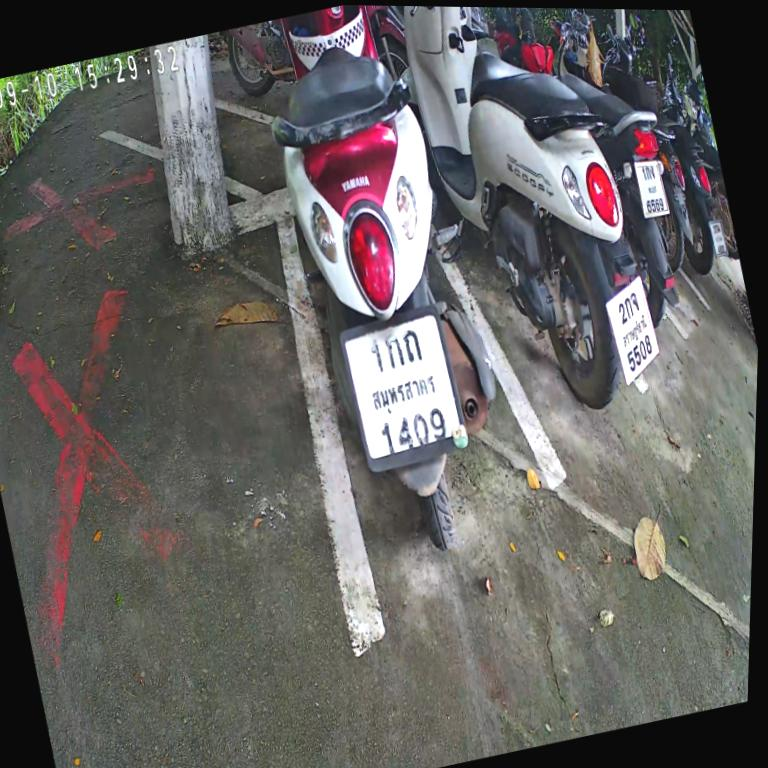license plate: (324, 293, 481, 486), (594, 268, 673, 396), (624, 143, 676, 229), (701, 212, 737, 266)
